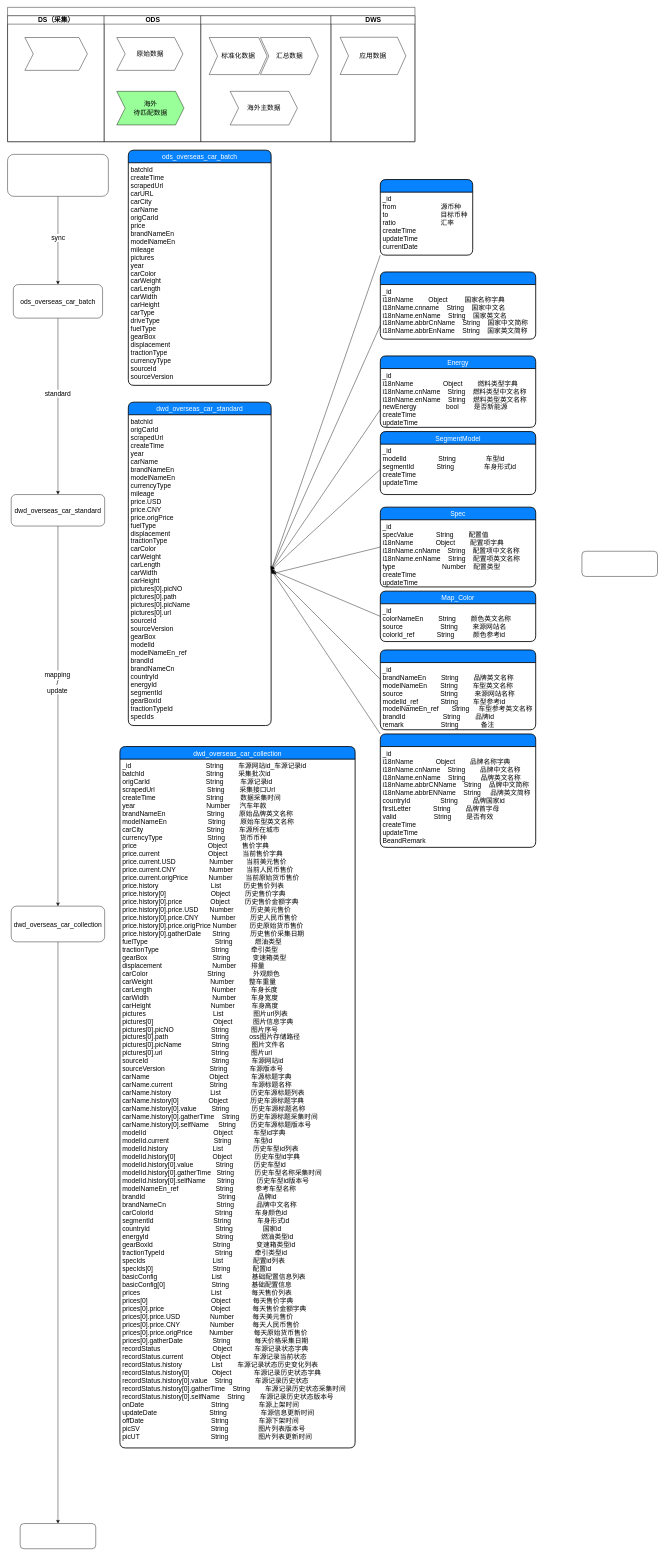
Image size: 665x1556. Some labels were removed from this diagram. The shapes that lost their labels are listed below. From the top down, each one's box as (x1, y1, x2, y2) in pixels, then its label:
(24, 37, 87, 70): 源数据
(7, 7, 415, 142): 海外车源数仓分层
(200, 15, 331, 142): DWD
(7, 154, 108, 196): ds_overseas_car_batch_source
(380, 179, 473, 255): Exchange_Rate
(380, 271, 536, 339): Country
(581, 551, 658, 576): dwd_global_master_data
(380, 649, 536, 730): Map_Model
(380, 733, 536, 848): Map_Brand
(20, 1523, 96, 1549): dws_overseas_car
